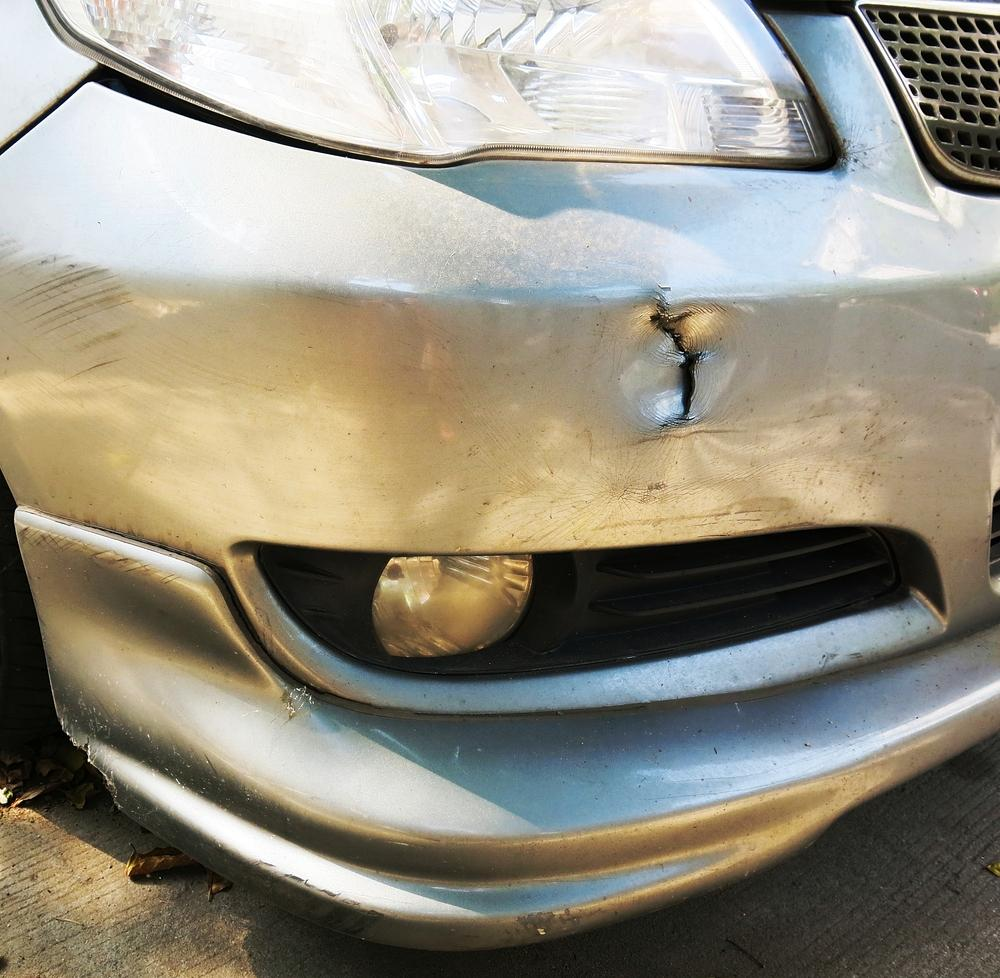crack: (649, 291, 704, 427)
scratch: (257, 855, 596, 942), (4, 241, 135, 385)
